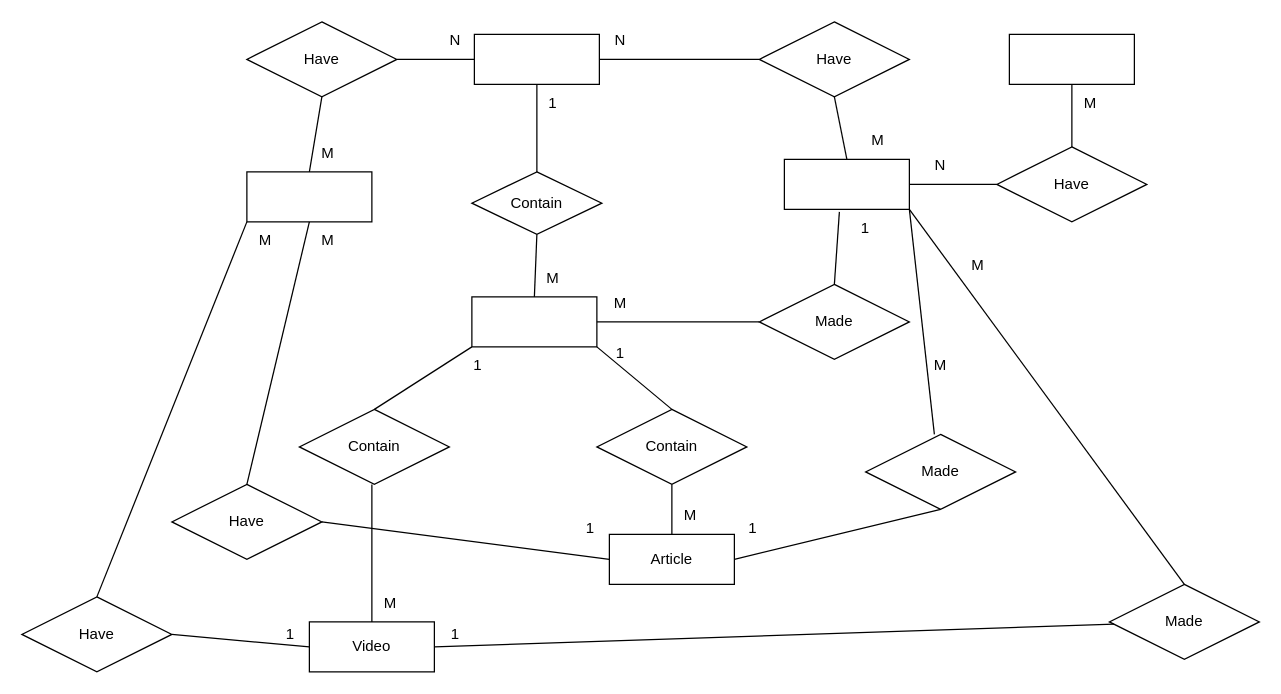
Image size: 1281x694. Some labels were removed from this diagram. Each missing label, with the centre of its shape:
"Author" belongs at (846,183).
"Course" belongs at (536,58).
"Lesson" belongs at (534,321).
"SocialMedia" belongs at (1071,58).
"Theme" belongs at (309,196).
